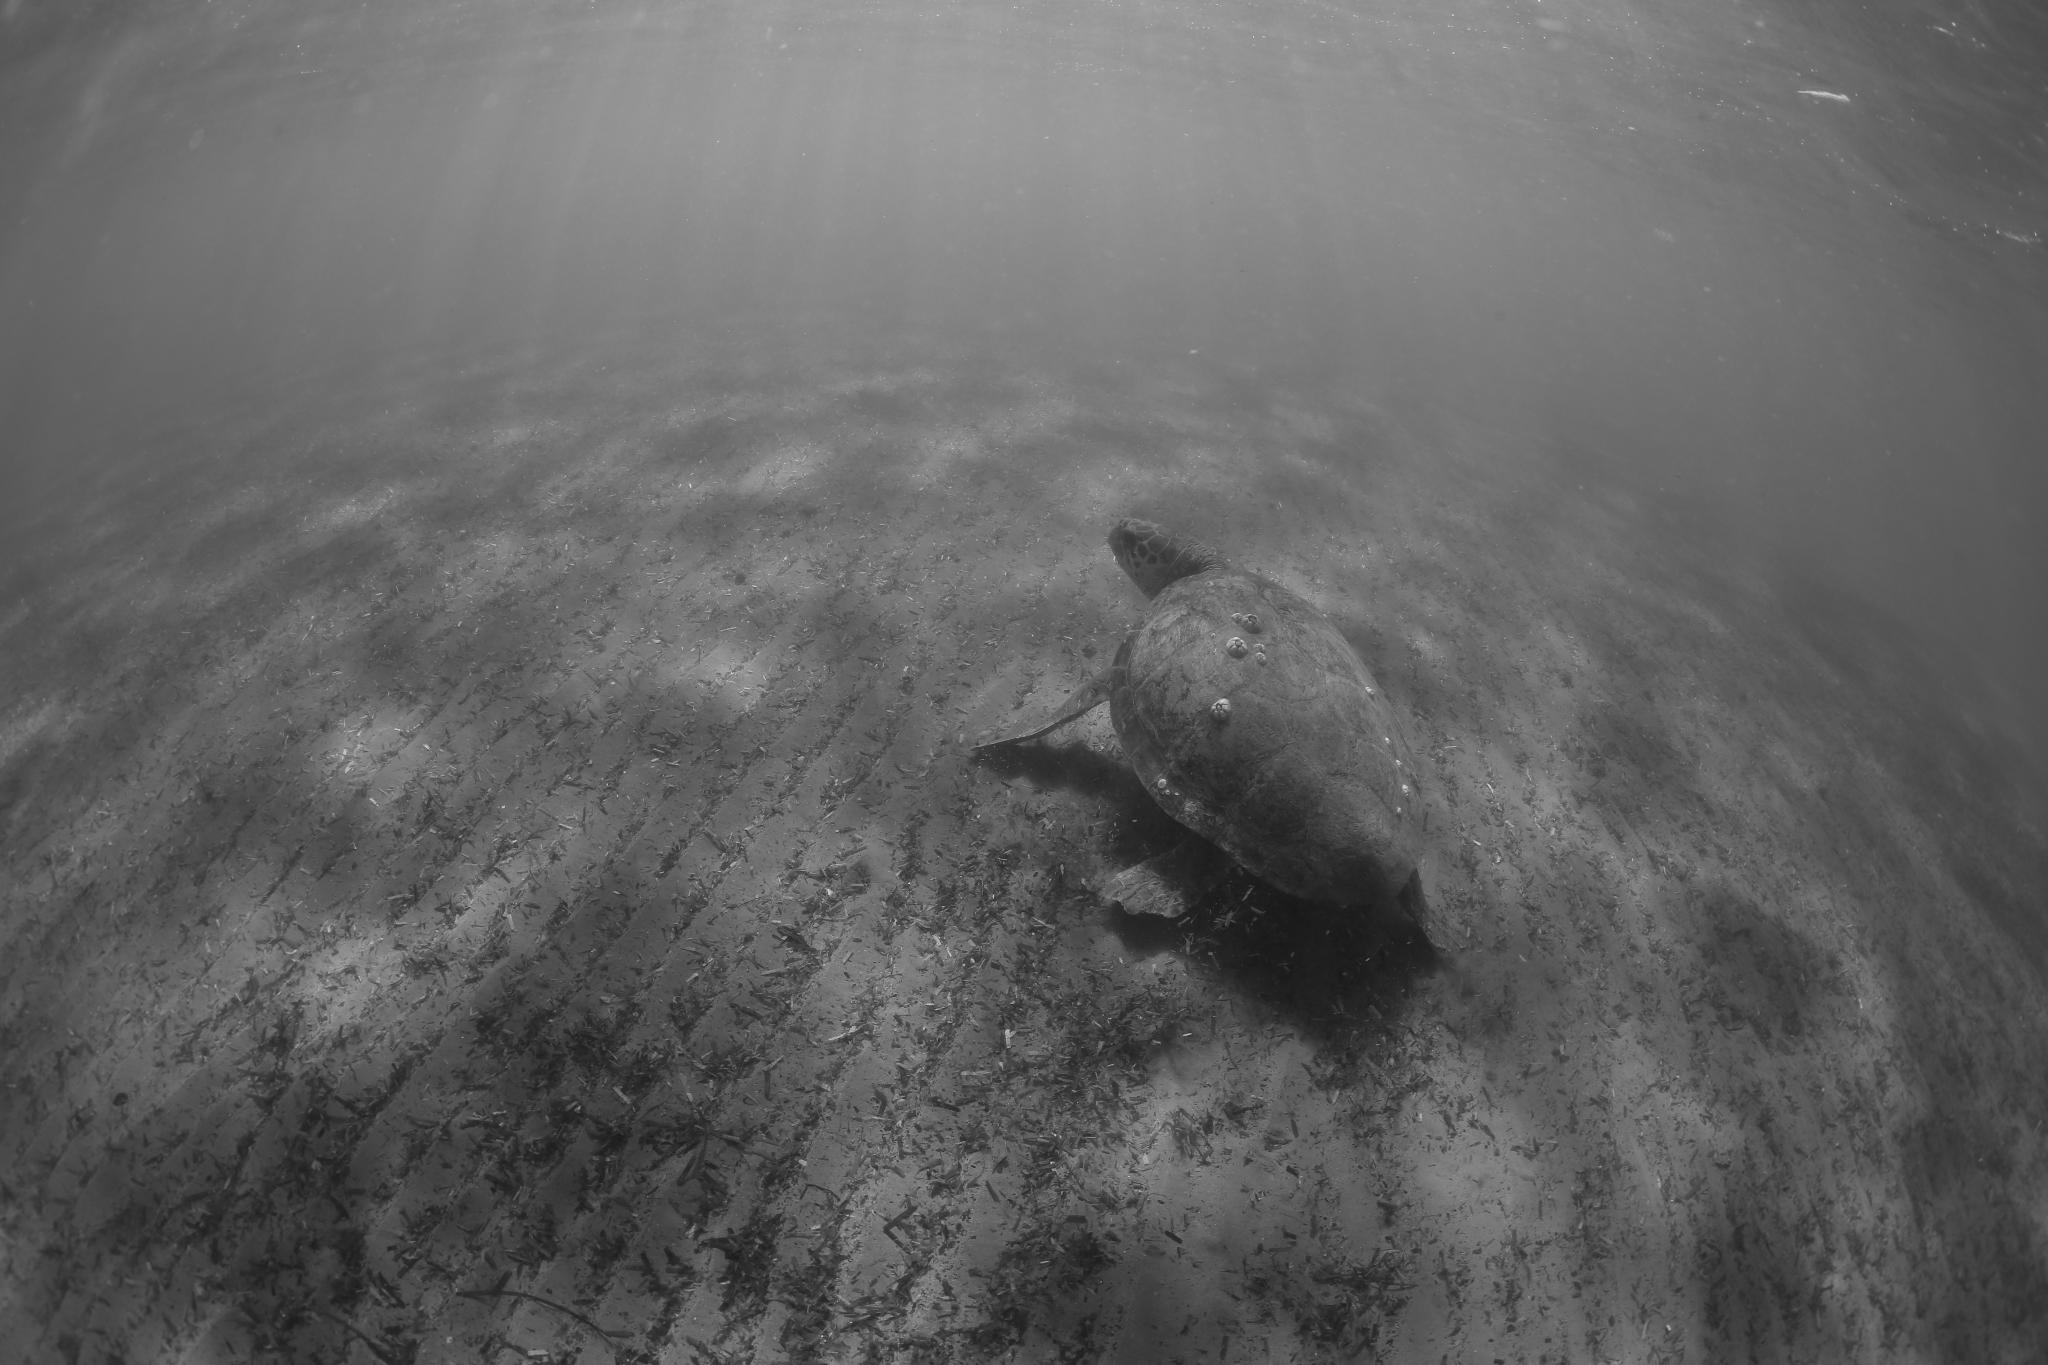Head: (1107, 518, 1224, 599)
